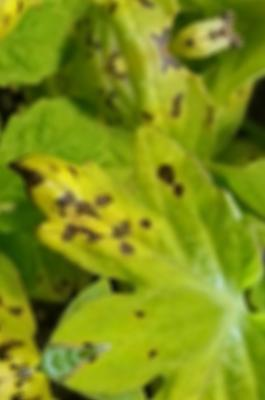Tomato leaf: (248, 179, 265, 293)
Tomato leaf bacterial spot: (0, 93, 265, 362), (0, 202, 57, 387)
